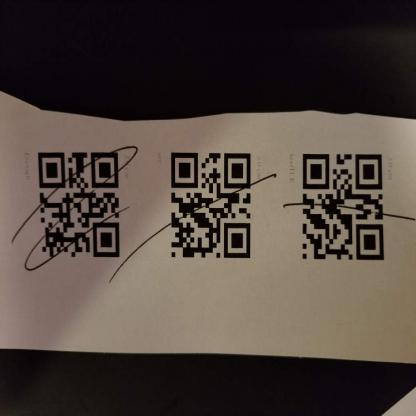qr: (33, 146, 129, 263), (299, 151, 388, 268), (166, 149, 254, 264)
